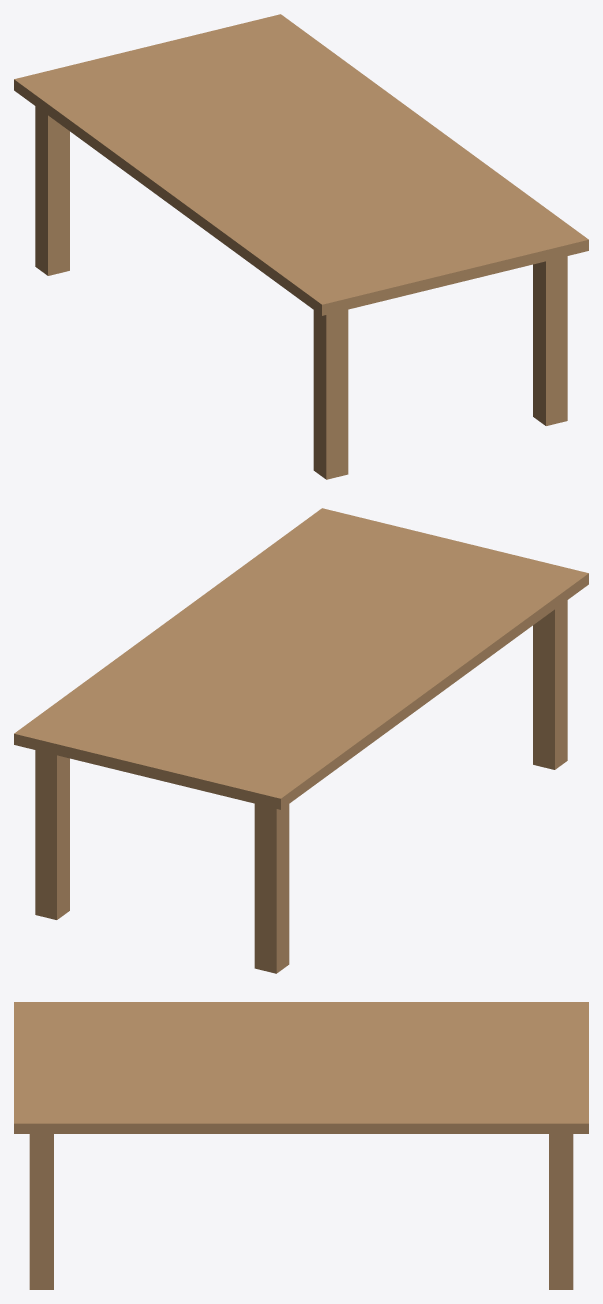
Rendered from Table.fbx.
3 views of the same model, one above another, from view 1: azimuth 30°, elevation 25°; view 2: azimuth 150°, elevation 25°; view 3: azimuth 270°, elevation 25° (orthographic). The views are drawn at different scales.
Visible parts, largest first — view 1: Table; view 2: Table; view 3: Table.
Part boxes in pixels (left/top/right/bottom): Table: left=14, top=14, right=588, bottom=479; Table: left=14, top=508, right=588, bottom=973; Table: left=14, top=1002, right=588, bottom=1289.
Bounding box in the file's own units: 500 × 330 × 1000.
